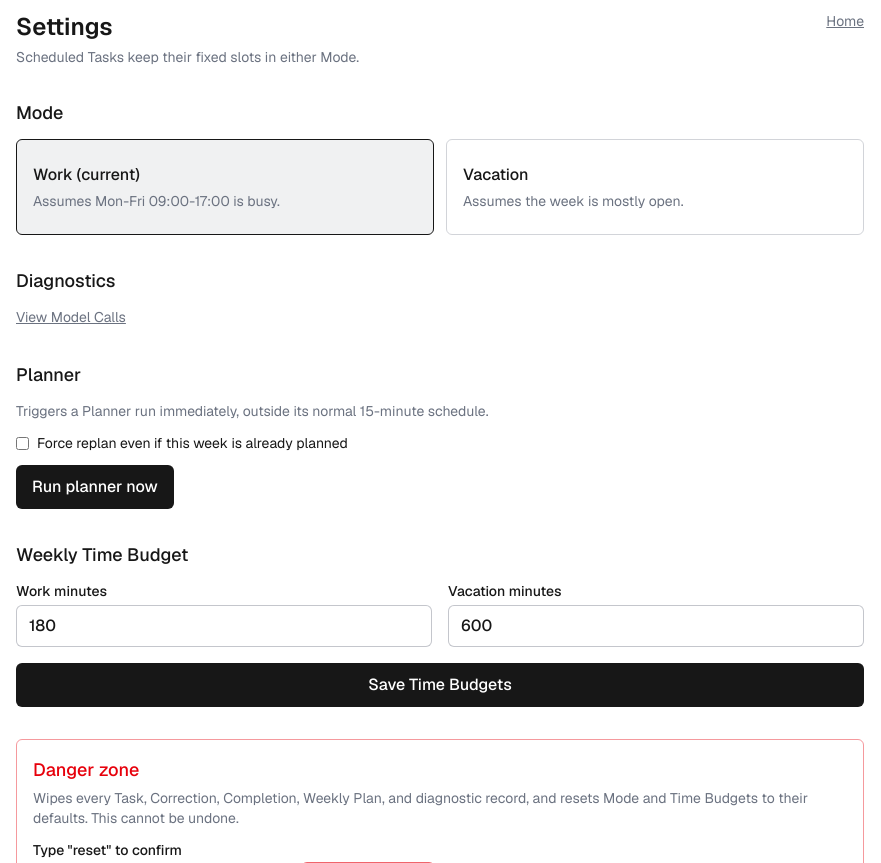
Test: Settings page › shows a rejected budget save and restores the stored value
Replace the text in the number field labelled "Vacation minutes" with "10081" at (656, 626), box top-left (448, 605), bottom-right (864, 647)
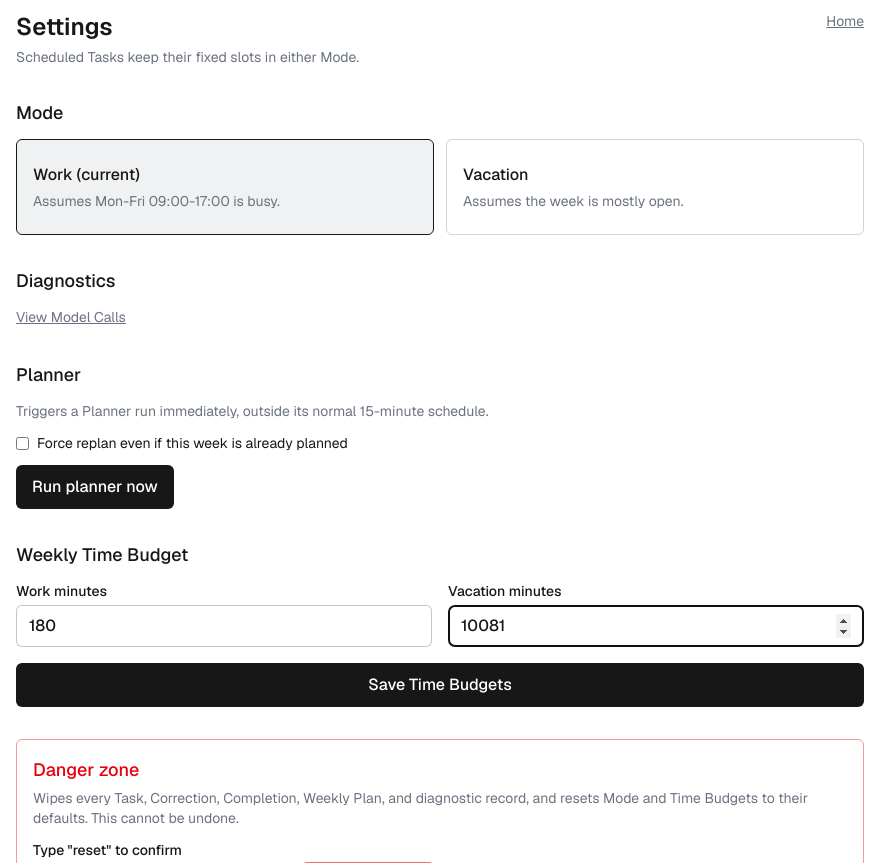
Click the button "Save Time Budgets" at (440, 685), box top-left (16, 663), bottom-right (864, 707)
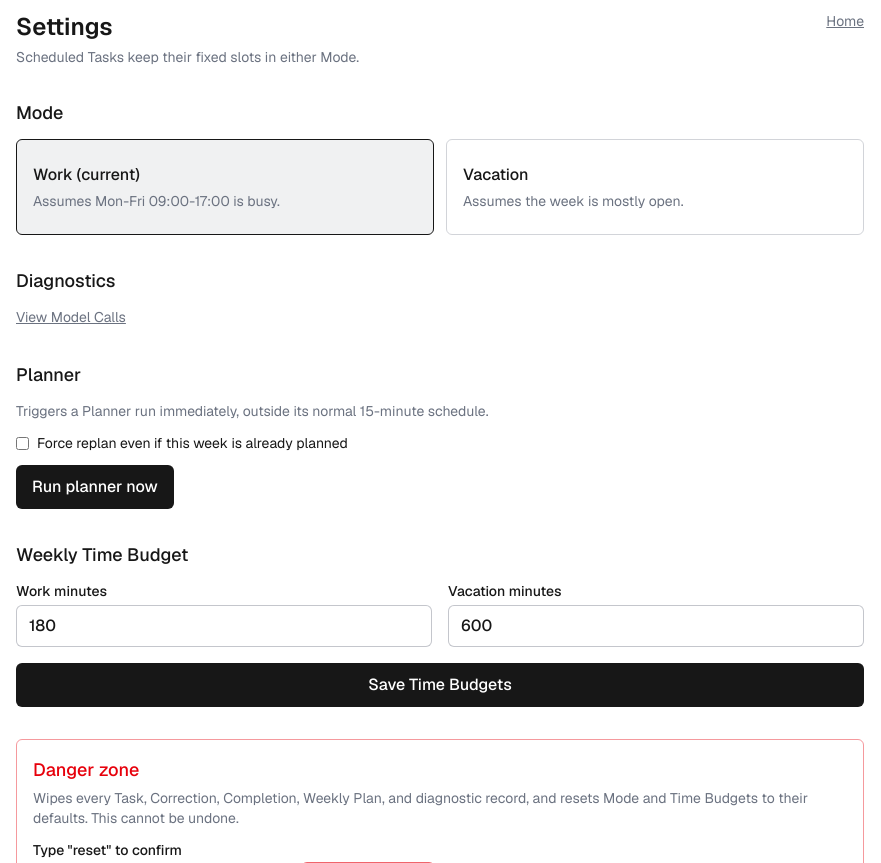
Expected: the number field labelled "Vacation minutes" holds "600", top-left (448, 605), bottom-right (864, 647)
